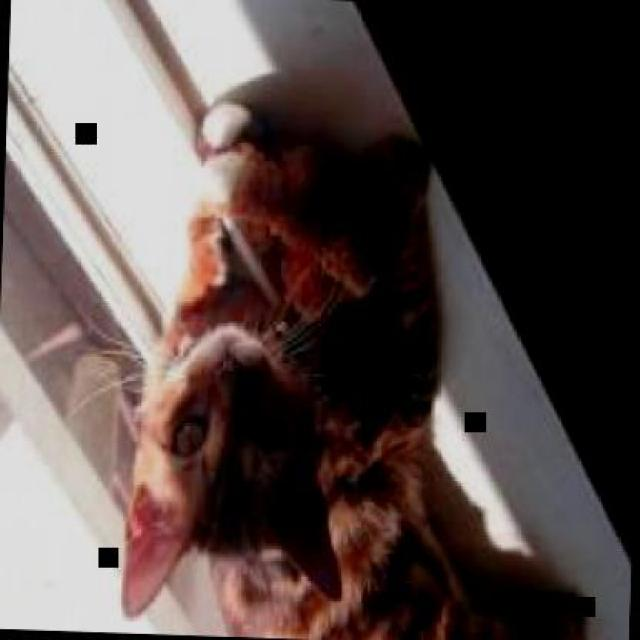cat: (118, 100, 617, 638)
